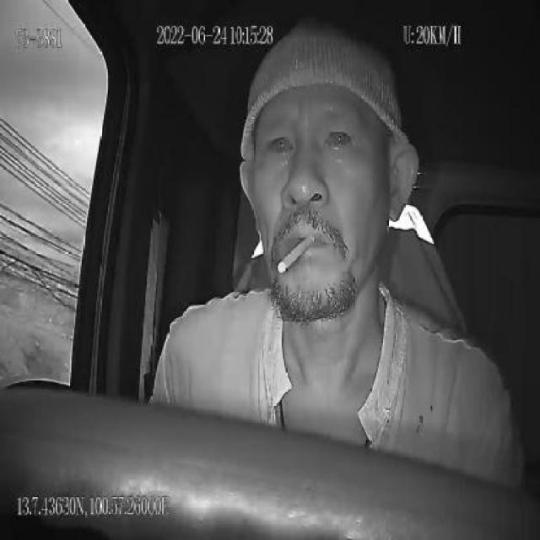smoking: (276, 232, 317, 277)
